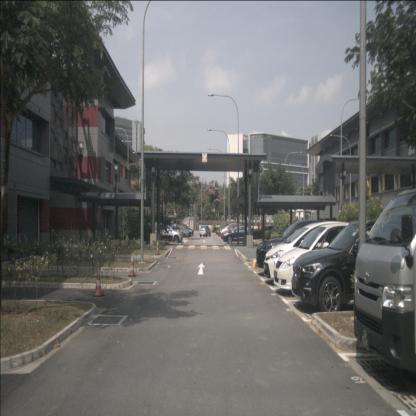movable_object-trafficcone: (93, 262, 105, 297), (127, 251, 136, 278), (155, 239, 160, 256)
vehicle-car: (291, 218, 416, 316), (353, 187, 415, 376), (273, 223, 388, 298), (263, 222, 370, 286), (256, 220, 354, 278), (223, 225, 253, 244), (155, 223, 183, 242), (218, 222, 241, 236), (171, 224, 189, 238), (177, 222, 194, 236), (221, 225, 237, 238), (199, 225, 211, 238), (216, 225, 227, 236), (218, 226, 229, 236)
